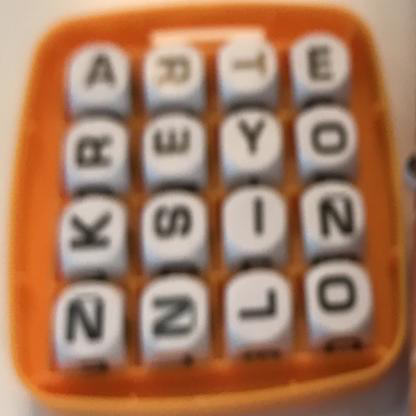a: (78, 44, 123, 96)
e: (147, 119, 204, 171), (300, 32, 347, 92)
i: (234, 190, 282, 251)
k: (58, 203, 129, 263)
l: (228, 274, 291, 341)
n: (147, 276, 205, 354), (53, 289, 123, 353), (309, 185, 369, 256)
o: (308, 264, 374, 328), (305, 107, 357, 167)
r: (69, 121, 126, 178), (147, 48, 203, 95)
s: (151, 199, 200, 249)
t: (226, 36, 279, 96)
y: (228, 109, 280, 173)
